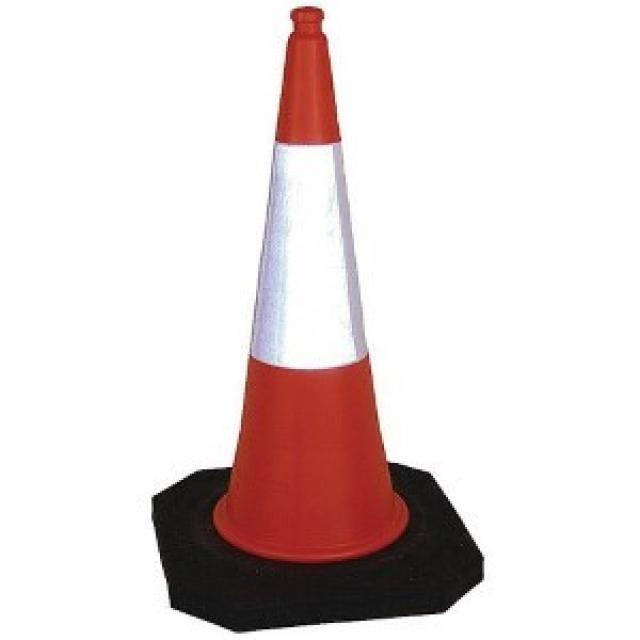Traffic Cone: (149, 4, 482, 632)
